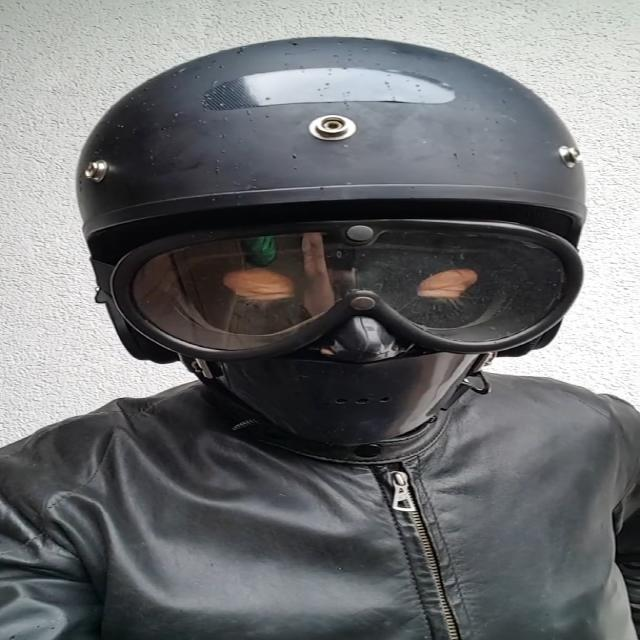Helmet_Wearer: (74, 24, 598, 476)
Jacket_Wearer: (9, 318, 640, 640)
Person: (0, 32, 640, 640)
